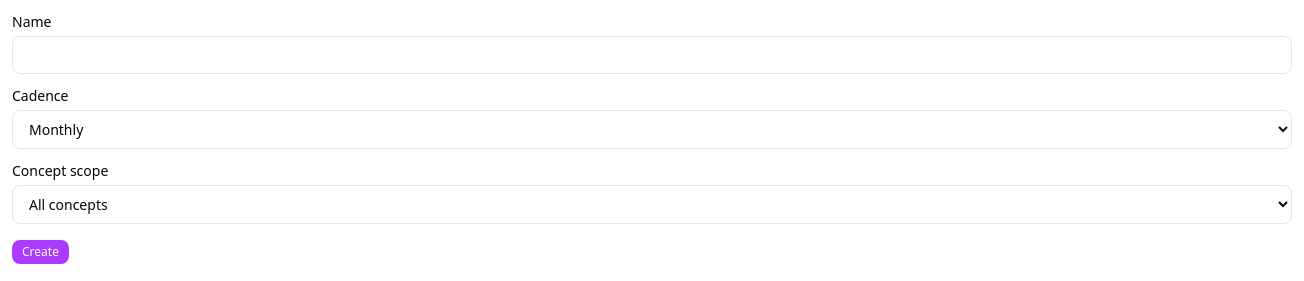
Test: ProcessForm › disables submit button while pending
Type "x" into the field labelled "Name" at (652, 55), box [12,36,1292,74]
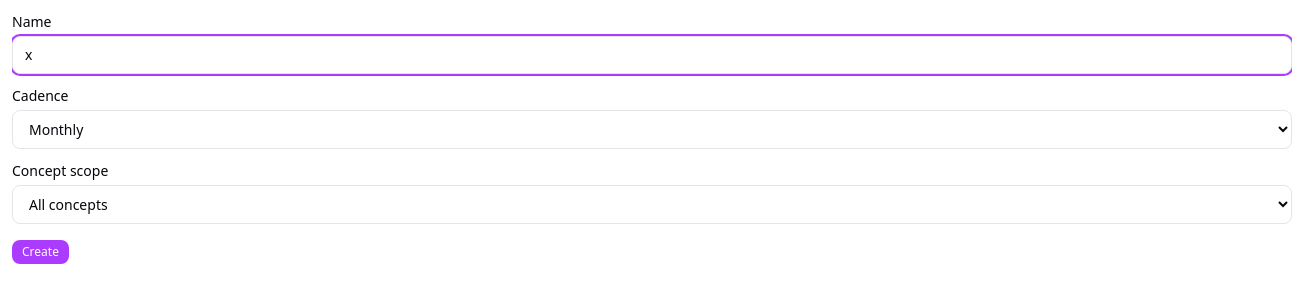
Click the button "Create" at (40, 252), box [12,240,69,264]
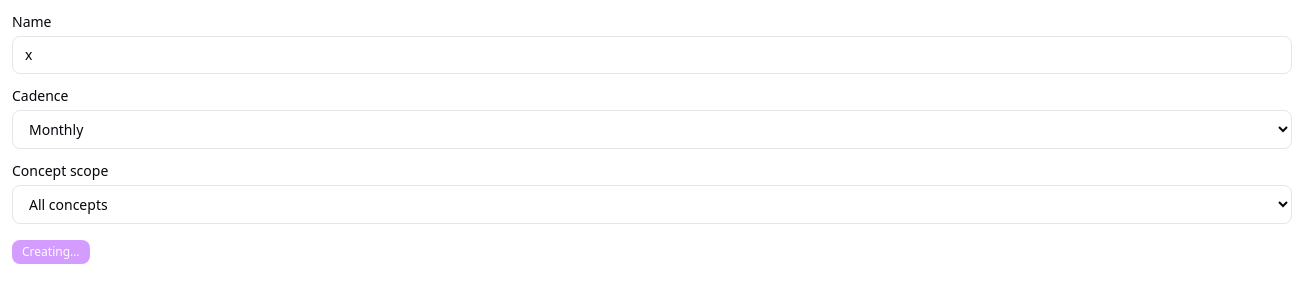
Expected: the button named "create" is disabled, [12,240,90,264]
